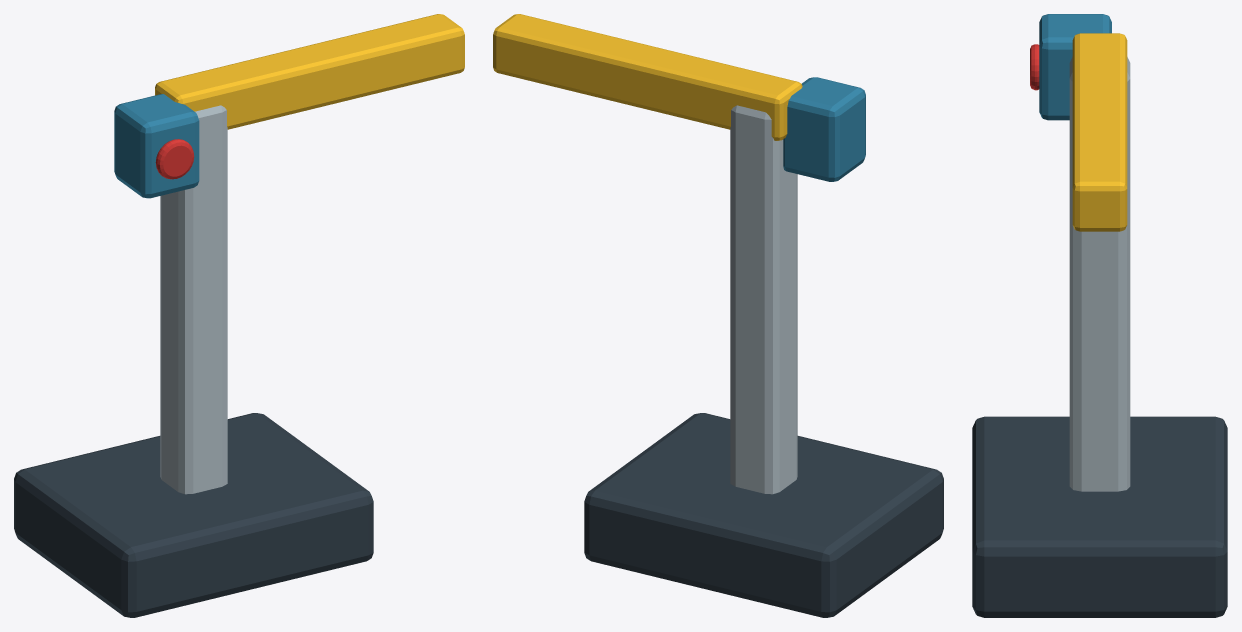
File: stopper.glb
3 views of the same model, side by side, from view 1: azimuth 30°, elevation 25°; view 2: azimuth 150°, elevation 25°; view 3: azimuth 270°, elevation 25° (orthographic). The views are drawn at different scales.
Parts seen in each view (by area): view 1: Stopper foot, Stopper upright, Stopper blocking bar, Photoelectric sensor, Sensor lens; view 2: Stopper foot, Stopper upright, Stopper blocking bar, Photoelectric sensor; view 3: Stopper foot, Stopper upright, Stopper blocking bar, Photoelectric sensor, Sensor lens.
Part boxes in pixels (<box>): Stopper foot: <box>14,413,373,617</box>; Stopper upright: <box>160,105,227,494</box>; Stopper blocking bar: <box>155,14,464,129</box>; Photoelectric sensor: <box>114,94,199,198</box>; Sensor lens: <box>155,139,194,179</box>; Stopper foot: <box>584,413,943,617</box>; Stopper upright: <box>730,105,797,494</box>; Stopper blocking bar: <box>493,14,802,140</box>; Photoelectric sensor: <box>783,77,865,181</box>; Stopper foot: <box>972,416,1227,617</box>; Stopper upright: <box>1069,57,1130,491</box>; Stopper blocking bar: <box>1072,33,1127,231</box>; Photoelectric sensor: <box>1039,14,1111,120</box>; Sensor lens: <box>1030,44,1039,90</box>.
Bounding box in the file's own units: 0.8 × 0.925 × 0.42.
